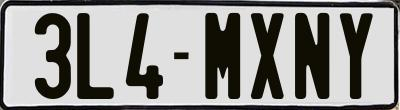3: (34, 11, 74, 103)
4: (126, 13, 166, 104)
L: (76, 13, 118, 101)
M: (202, 12, 241, 101)
N: (292, 13, 327, 104)
X: (250, 10, 283, 102)
Y: (337, 13, 373, 99)
